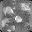people: (3, 6, 15, 16), (1, 18, 12, 27), (15, 15, 22, 23)
